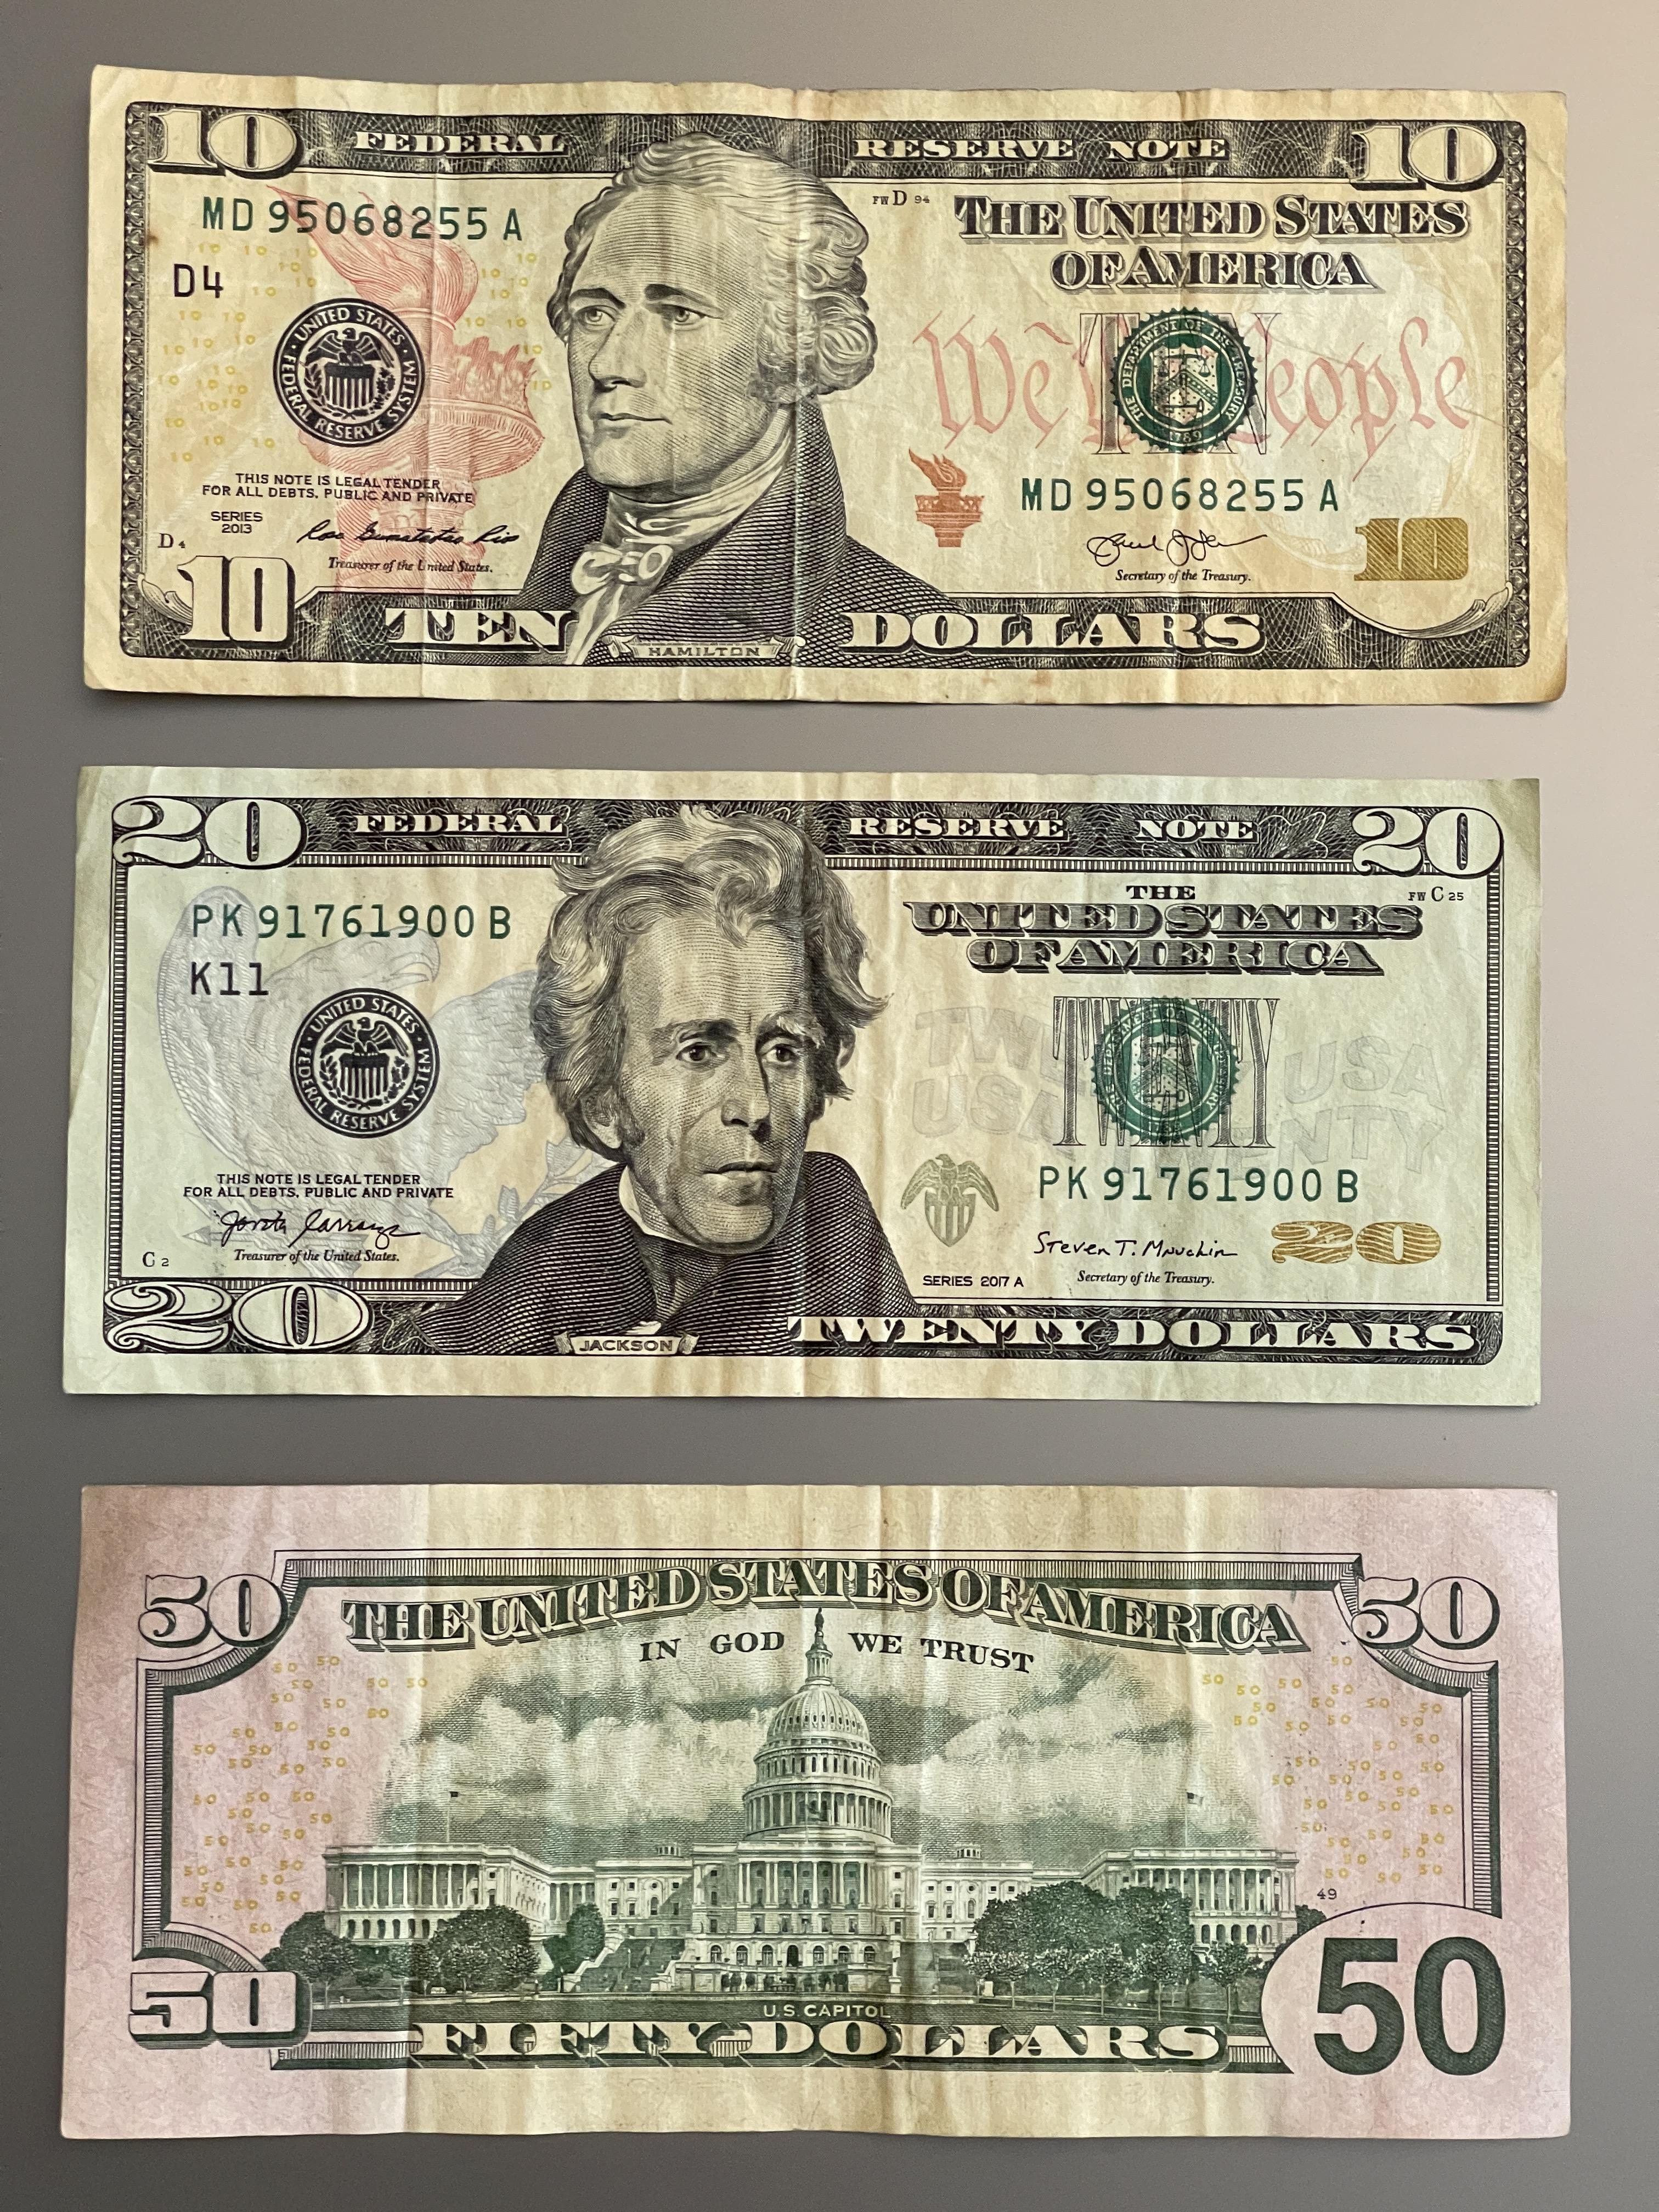FiftyBill: (56, 1477, 1579, 2146)
TenBill: (77, 59, 1572, 716)
TwentyBill: (56, 761, 1549, 1413)
